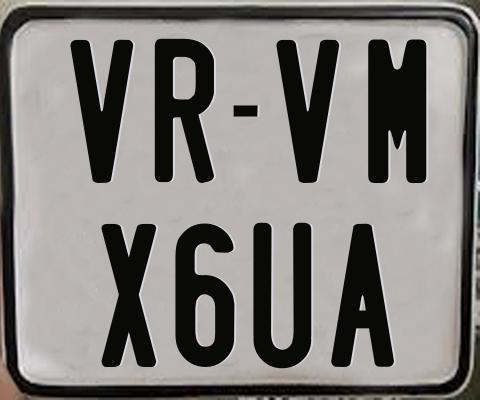6: (175, 222, 239, 371)
A: (330, 221, 393, 367)
M: (365, 37, 425, 186)
R: (153, 38, 215, 185)
U: (252, 223, 311, 370)
V: (70, 37, 137, 185), (275, 37, 339, 185)
X: (101, 223, 161, 367)
